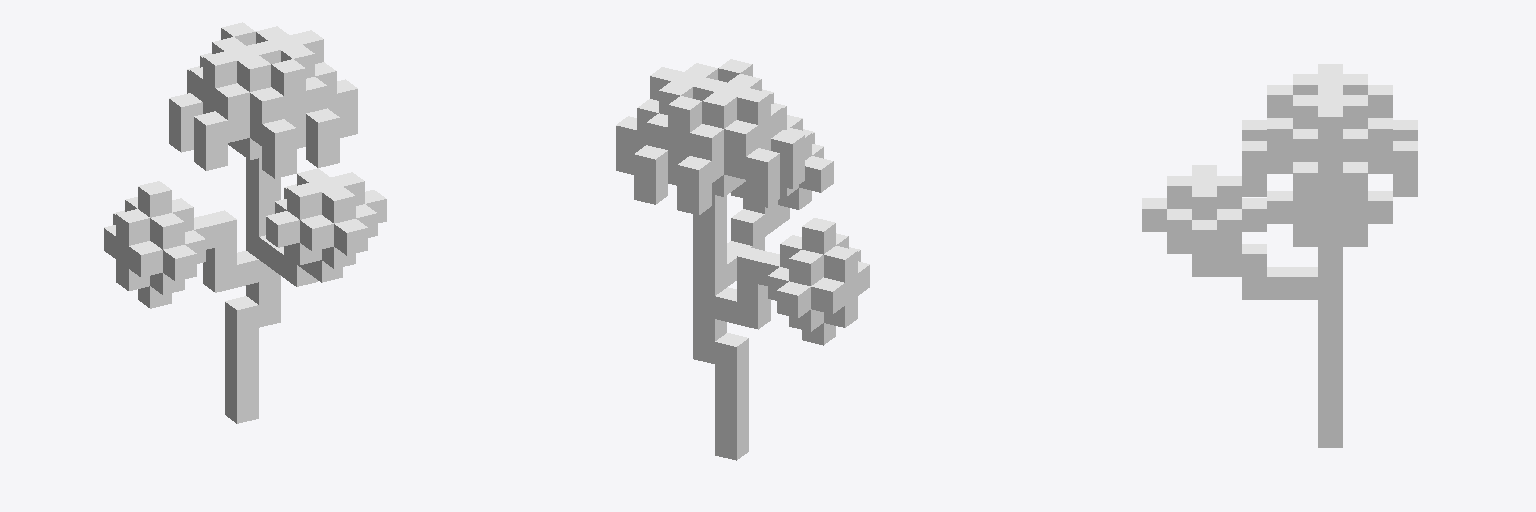
Rendered from CottonPlant3.obj.
The picture shows the model from 3 angles: view 1: azimuth 30°, elevation 25°; view 2: azimuth 150°, elevation 25°; view 3: azimuth 270°, elevation 25°; orthographic projection.
Visible parts, largest first — view 1: CottonPlant3; view 2: CottonPlant3; view 3: CottonPlant3.
Part boxes in pixels (bbox=[...]): CottonPlant3: bbox=[104, 22, 386, 423]; CottonPlant3: bbox=[616, 59, 869, 460]; CottonPlant3: bbox=[1142, 64, 1417, 447].
Size of the model in its own units: 1 by 1.6 by 1.1.